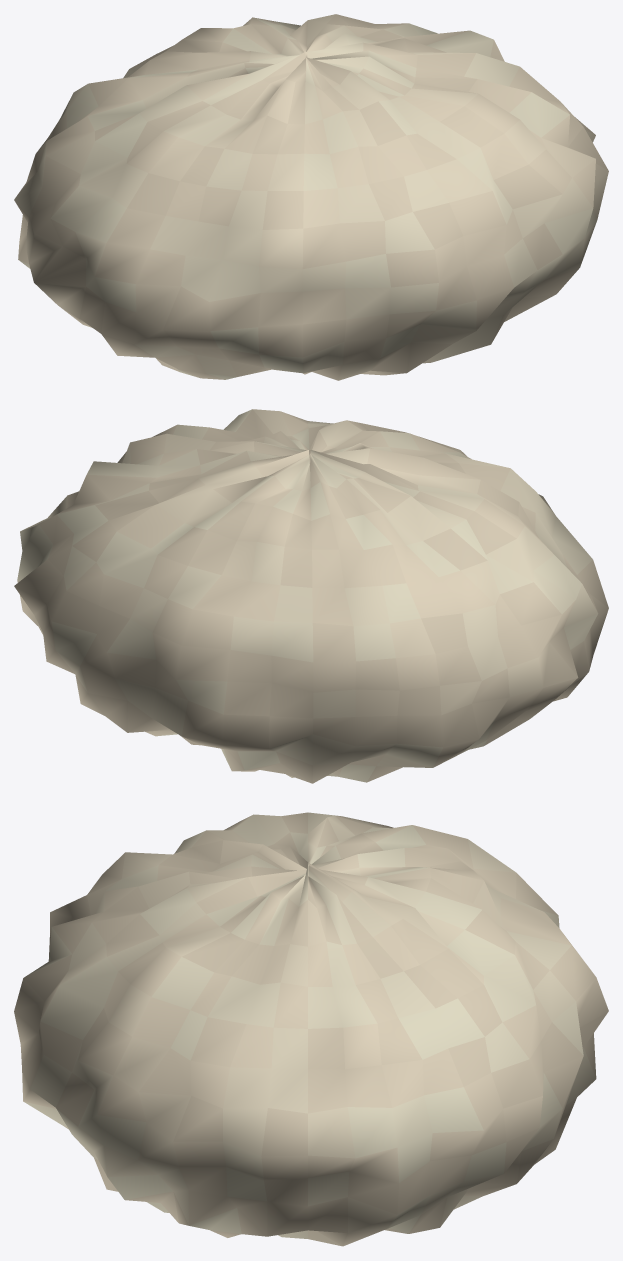
Rendered from Cream.glb.
3 renders of one model, top to bottom at view 1: azimuth 30°, elevation 25°; view 2: azimuth 150°, elevation 25°; view 3: azimuth 270°, elevation 25°, orthographic. The views are drawn at different scales.
Parts seen in each view (by area): view 1: Cream; view 2: Cream; view 3: Cream.
Part boxes in pixels (left/top/right/bottom): Cream: left=14, top=14, right=608, bottom=380; Cream: left=14, top=409, right=608, bottom=783; Cream: left=14, top=812, right=608, bottom=1246.
Size of what is drawn, in the model's own units: 0.0738 by 0.0384 by 0.063.
